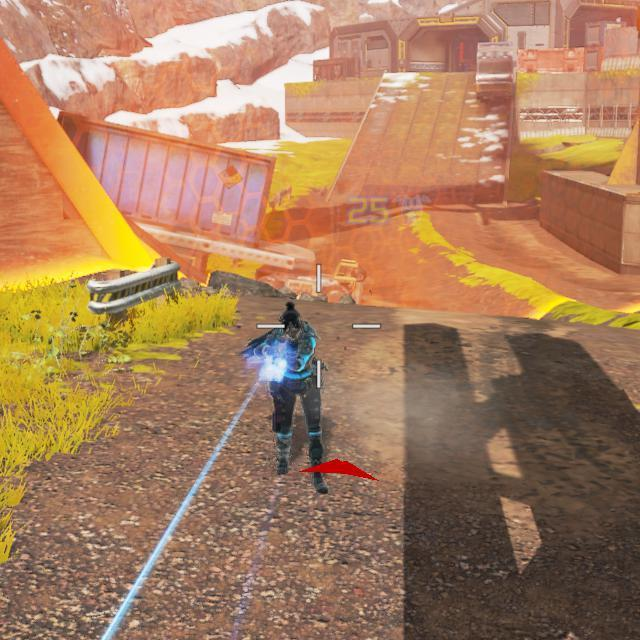avatar: (241, 301, 329, 497)
